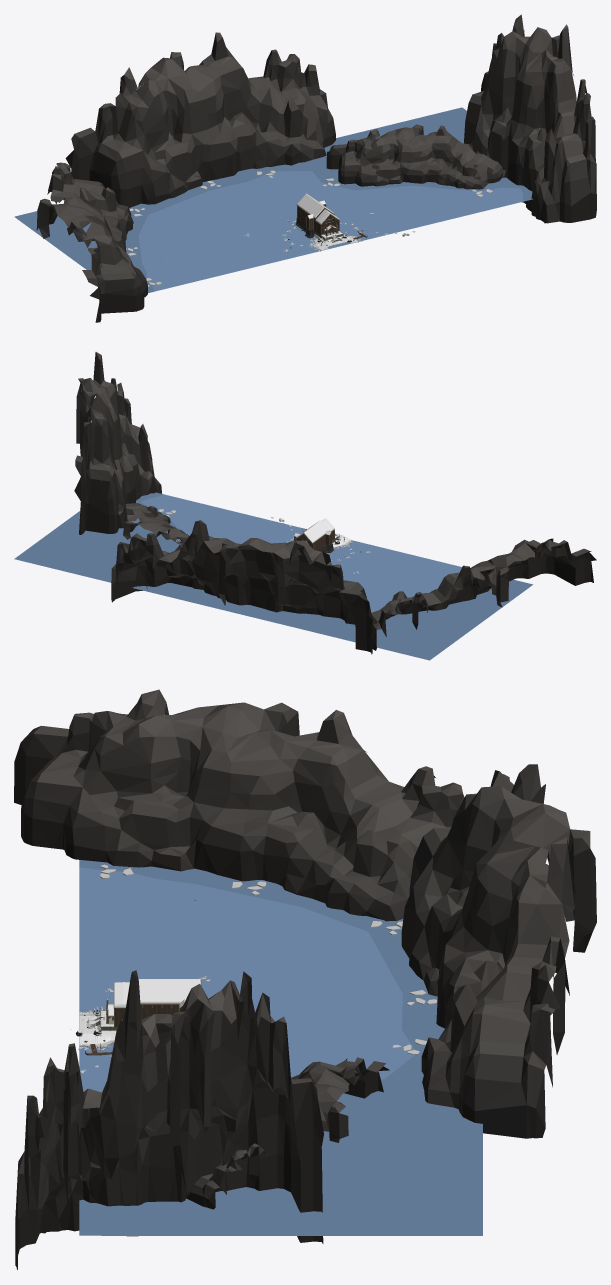
Rendered from narrowHalls.glb.
3 views of the same model, one above another, from view 1: azimuth 30°, elevation 25°; view 2: azimuth 150°, elevation 25°; view 3: azimuth 270°, elevation 25° (orthographic). The views are drawn at different scales.
Parts seen in each view (by area): view 1: mountains_.001, water.001, mountains_.002, mountains_, mountains_.003; view 2: water.001, mountains_.001, mountains_.002, mountains_, mountains_.003; view 3: water.001, mountains_, mountains_.002, mountains_.001, mountains_.003, snowRoof.002.
Boxes of the visible parts, left/top/right/bottom form: mountains_.001: left=65, top=32, right=335, bottom=207; water.001: left=14, top=107, right=533, bottom=292; mountains_.002: left=464, top=14, right=596, bottom=223; mountains_: left=36, top=162, right=147, bottom=322; mountains_.003: left=326, top=124, right=503, bottom=189; water.001: left=14, top=492, right=533, bottom=660; mountains_.001: left=111, top=520, right=372, bottom=654; mountains_.002: left=74, top=352, right=161, bottom=534; mountains_: left=370, top=538, right=596, bottom=650; mountains_.003: left=118, top=503, right=189, bottom=546; water.001: left=79, top=860, right=482, bottom=1235; mountains_: left=14, top=689, right=464, bottom=921; mountains_.002: left=15, top=970, right=323, bottom=1269; mountains_.001: left=401, top=764, right=596, bottom=1138; mountains_.003: left=186, top=1057, right=389, bottom=1209; snowRoof.002: left=138, top=979, right=200, bottom=1003.
Size of what is drawn, in the model's own units: 601 by 188 by 325.
